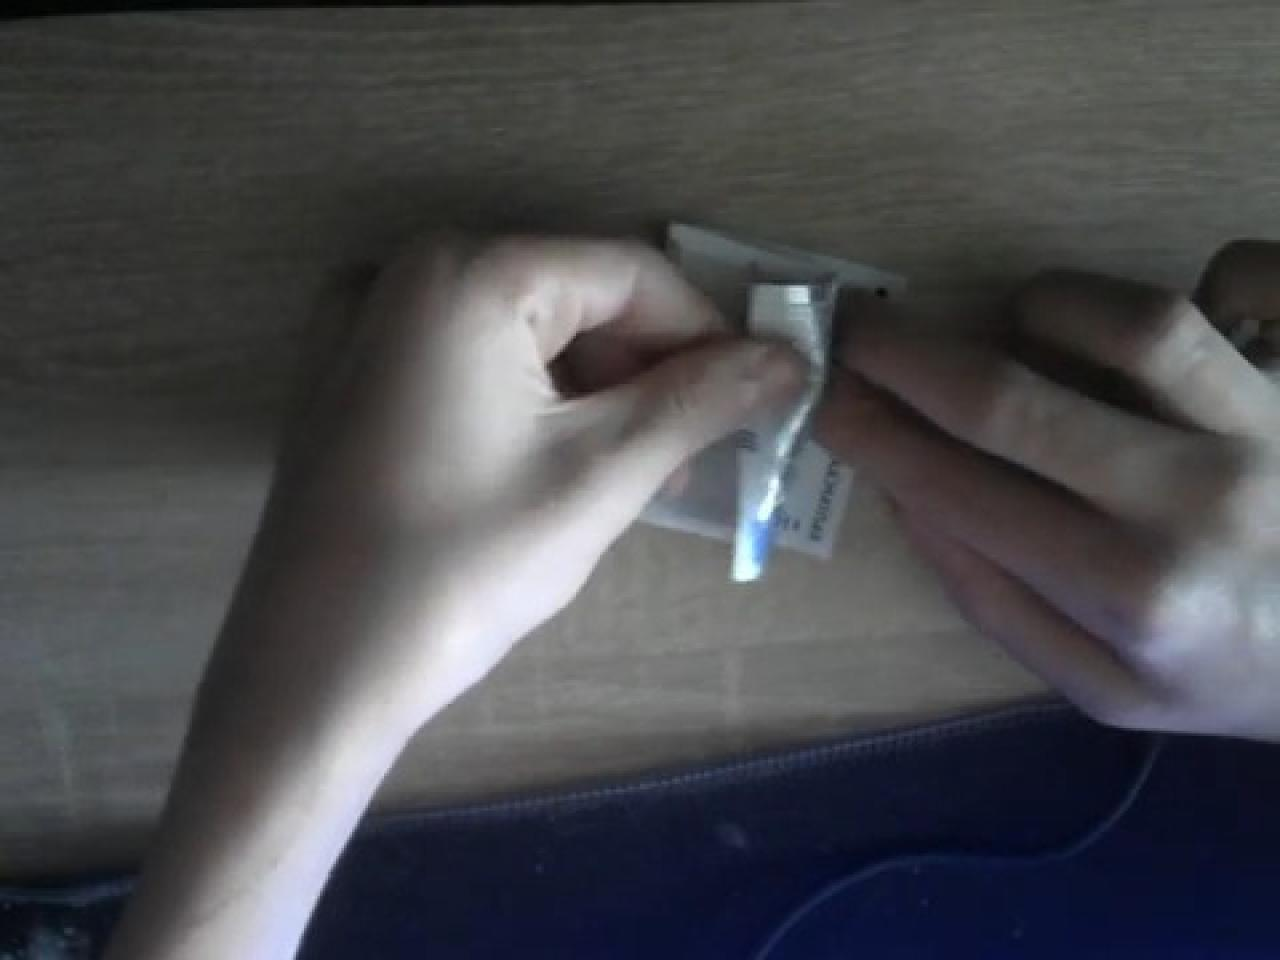20leva: (637, 430, 851, 574)
